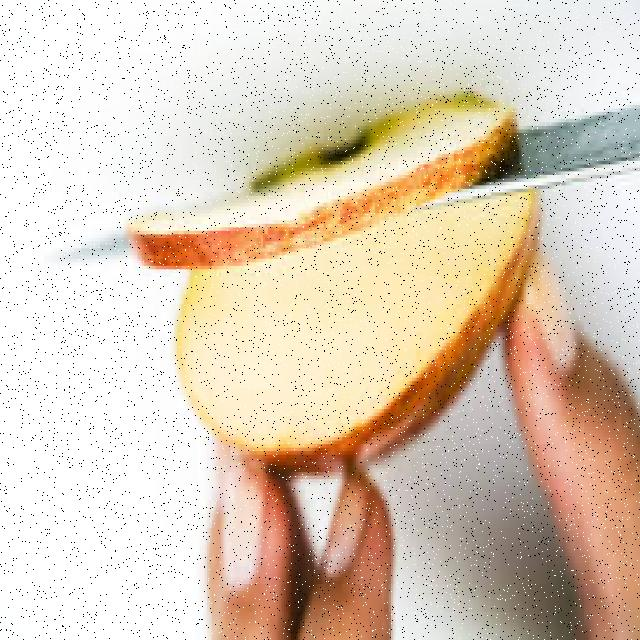Apple: (174, 228, 568, 466), (130, 76, 520, 271)
